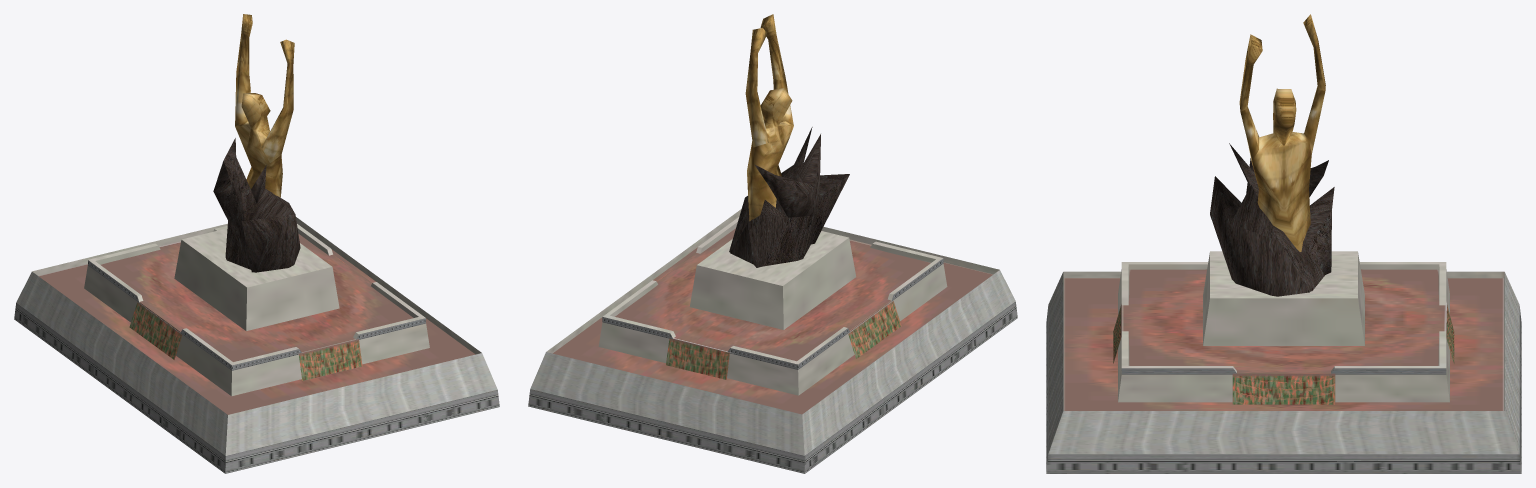
The model's file is thm_corl_fountain_statue_heroic_s01_l4.fbx.
3 renders of one model, left to right at view 1: azimuth 30°, elevation 25°; view 2: azimuth 150°, elevation 25°; view 3: azimuth 270°, elevation 25°, orthographic. The views are drawn at different scales.
Visible parts, largest first — view 1: mesh_node; view 2: mesh_node; view 3: mesh_node.
Boxes of the visible parts, x1,y1,x2,y2 form: mesh_node: [14, 14, 499, 473]; mesh_node: [528, 14, 1017, 473]; mesh_node: [1046, 14, 1521, 473].
Size of the model in its own units: 6.16 by 7.31 by 8.21.
